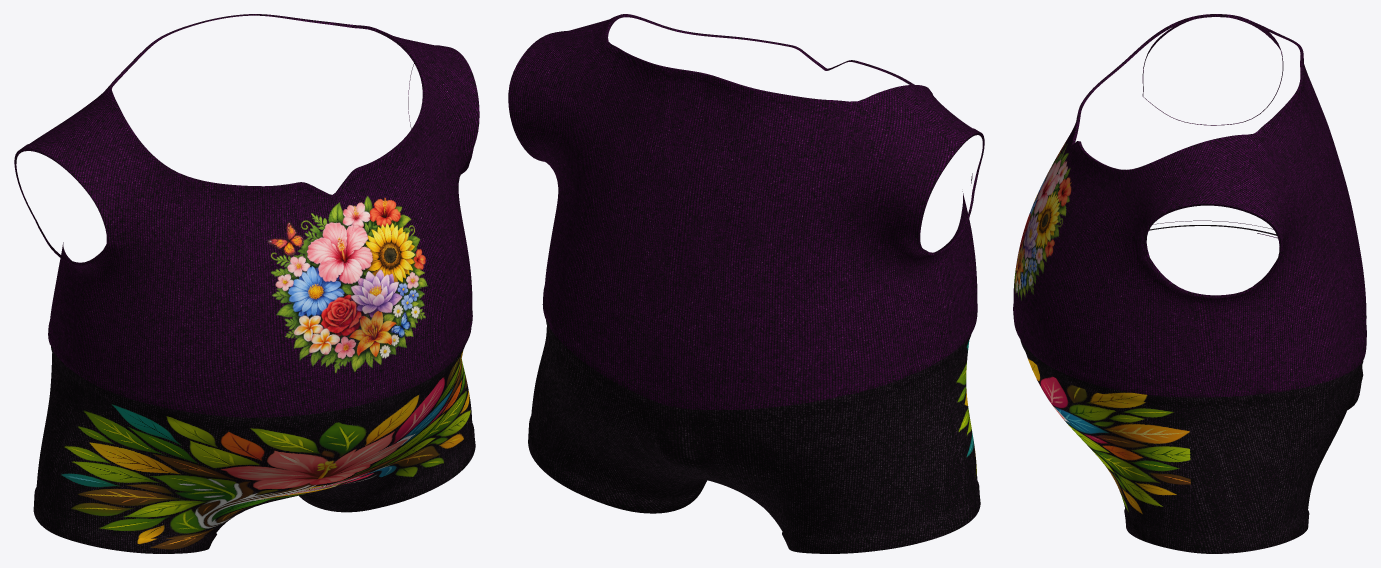
File: UNicorn_pink Dress.glb
3 renders of one model, left to right at view 1: azimuth 30°, elevation 25°; view 2: azimuth 150°, elevation 25°; view 3: azimuth 270°, elevation 25°, orthographic. The views are drawn at different scales.
Parts seen in each view (by area): view 1: polySurface17, polySurface3; view 2: polySurface17, polySurface3; view 3: polySurface17, polySurface3.
Boxes of the visible parts, x1,y1,x2,y2 form: polySurface17: (14,14,479,417); polySurface3: (33,346,475,553); polySurface17: (508,14,984,410); polySurface3: (528,319,980,553); polySurface17: (1013,14,1366,397); polySurface3: (1020,225,1363,553).
Size of the model in its own units: 0.2018 by 0.2136 by 0.1582.
2 materials, 2 textured.
